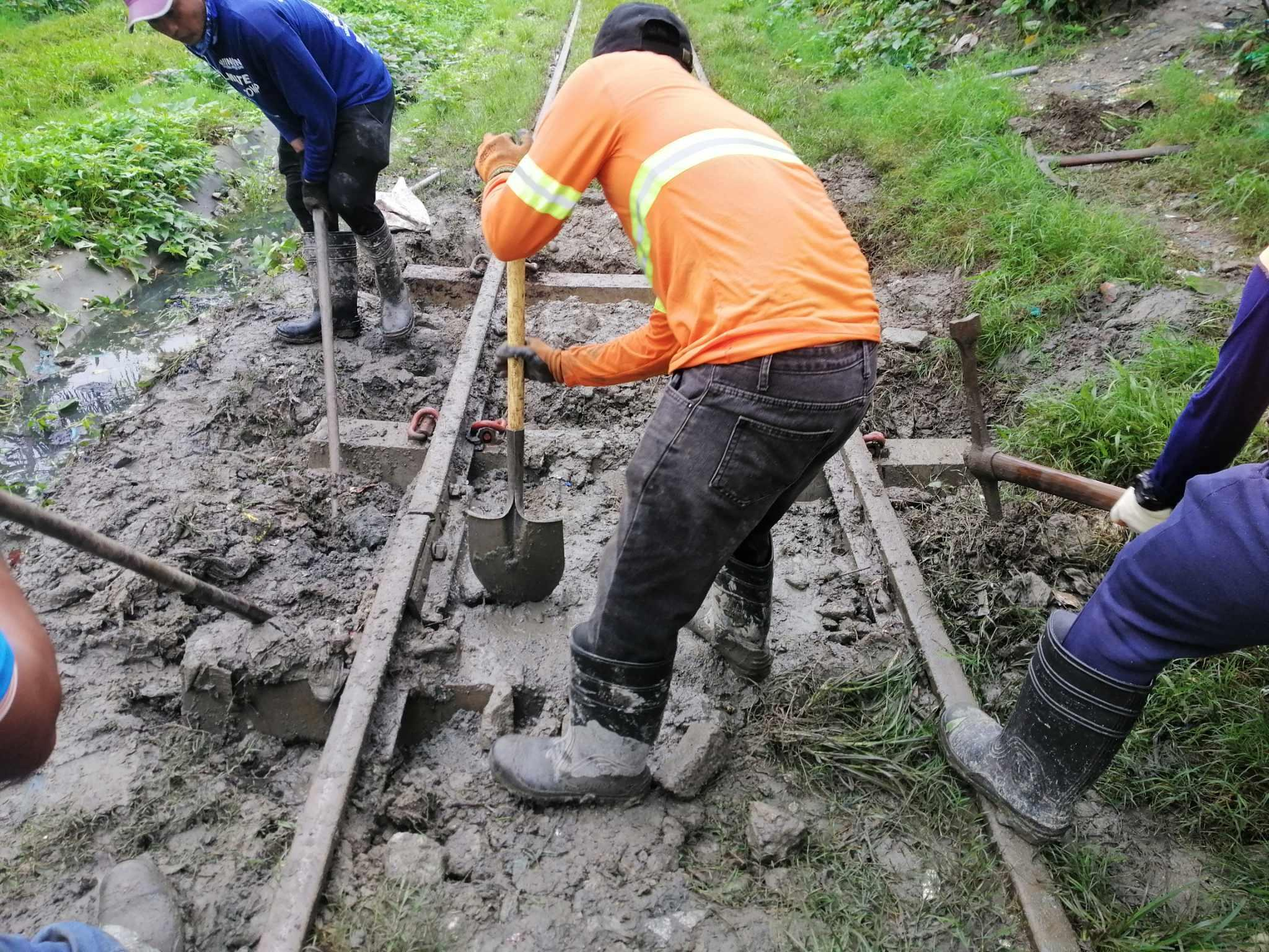railway-gap: (379, 476, 461, 553)
